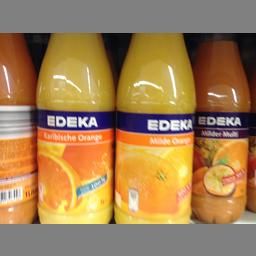juice: (114, 33, 196, 222), (33, 33, 113, 222), (191, 32, 248, 222)
